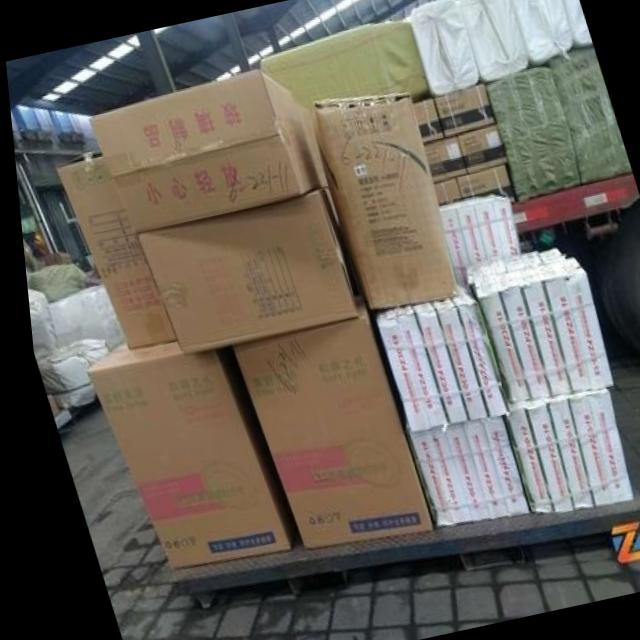box: (221, 282, 423, 547), (81, 336, 284, 566), (130, 180, 354, 352), (86, 67, 316, 231), (312, 92, 453, 308), (50, 152, 170, 348), (462, 248, 607, 401), (368, 287, 499, 432), (495, 386, 623, 510), (398, 412, 521, 525), (434, 191, 516, 287), (430, 80, 493, 138), (294, 102, 326, 186), (455, 123, 505, 171), (423, 134, 466, 182), (455, 164, 513, 198), (407, 95, 441, 143), (430, 178, 456, 202)
